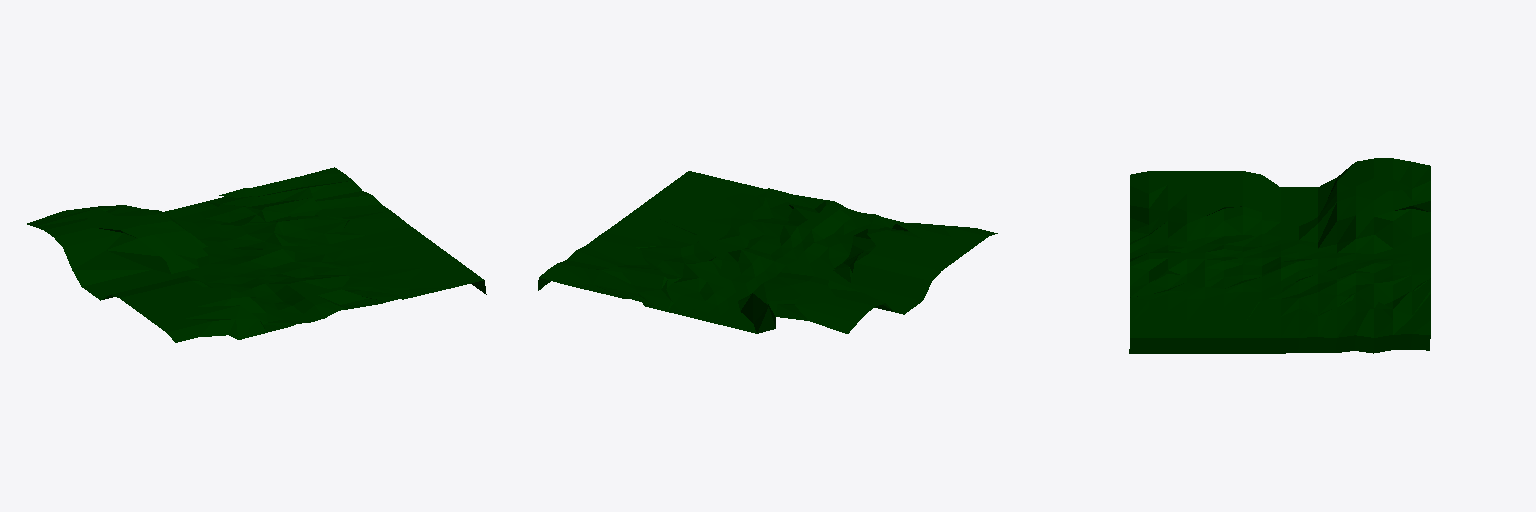
File: plains_1.obj
The picture shows the model from 3 angles: view 1: azimuth 30°, elevation 25°; view 2: azimuth 150°, elevation 25°; view 3: azimuth 270°, elevation 25°; orthographic projection.
Visible parts, largest first — view 1: Plane; view 2: Plane; view 3: Plane.
Boxes of the visible parts, box(x1,y1,x2,y2) form: Plane: box(27, 167, 486, 342); Plane: box(538, 171, 997, 333); Plane: box(1129, 158, 1430, 353).
Bounding box in the file's own units: 19.27 × 2.6 × 16.21.